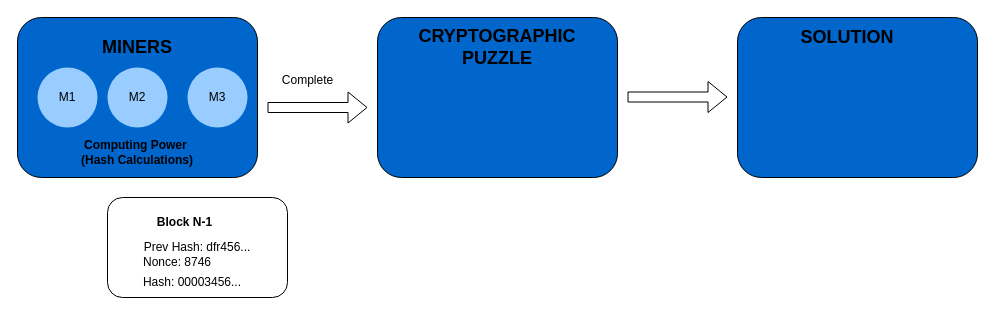
Some shapes in this 995 by 315 pixel diagram are drawn without their labels. Here are the shapes that lost their labels. From the top down, the box of each, then its label:
(376, 16, 618, 178): Find Nonce where: Hash (Block + Nonce) Starts with 0000...
(736, 16, 978, 178): Valid nonce found Hash: 000085ti Winner gets: Block Reward + Transaction Fees
